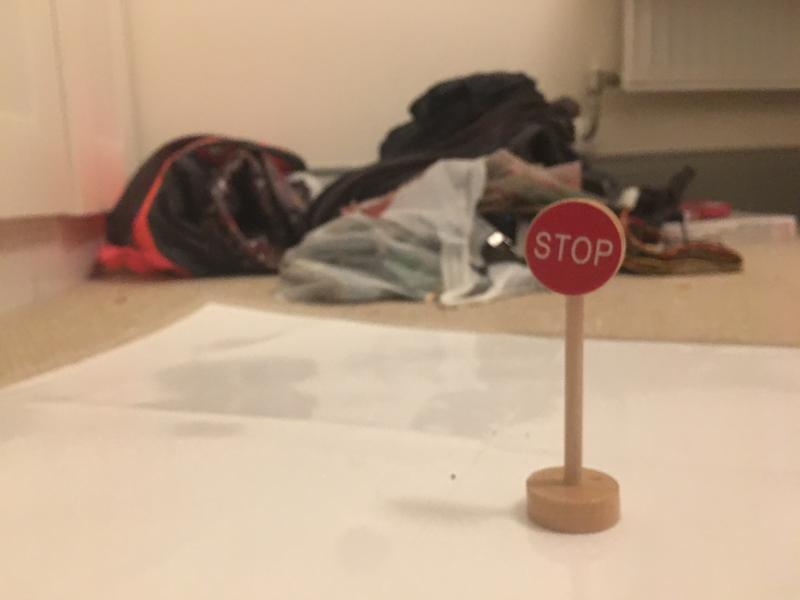Traffic_Sign_Stop: (522, 200, 626, 296)
